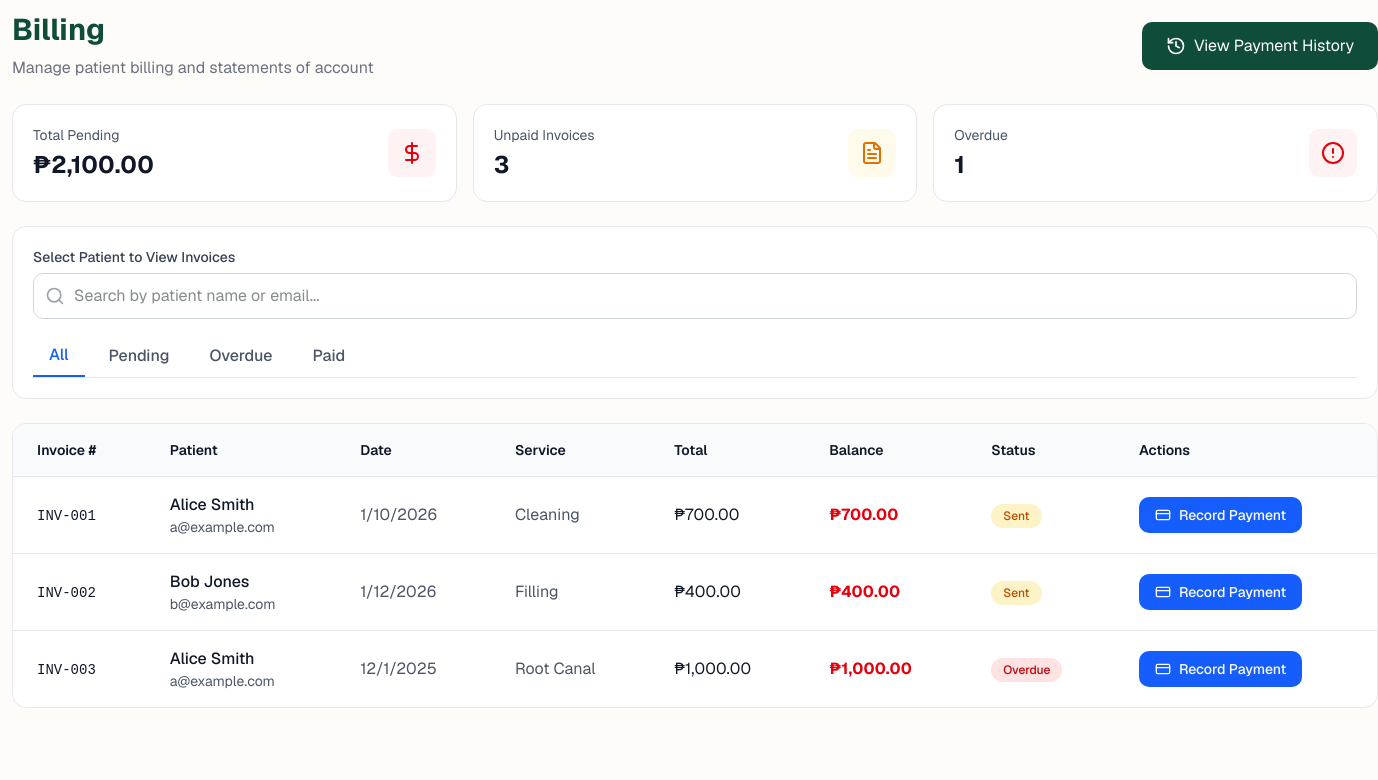
Test: Billing Page — Filtering Logic › 'Overdue' tab shows exactly 1 row
The image size is (1378, 780).
Click the button "Overdue".
click(241, 356)  # box [194,335,288,377]
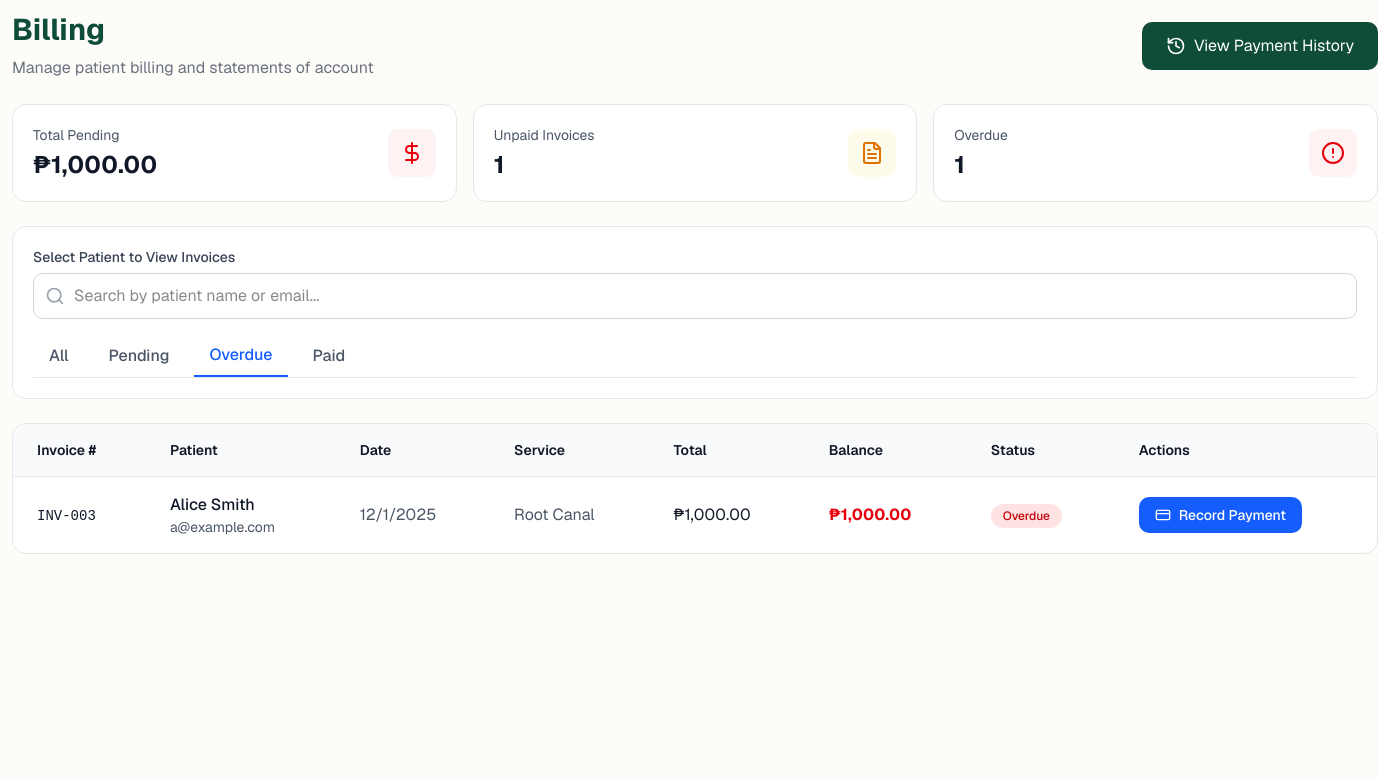
Expected: the button "Overdue" has class "border-blue-600", [194,335,288,377]
